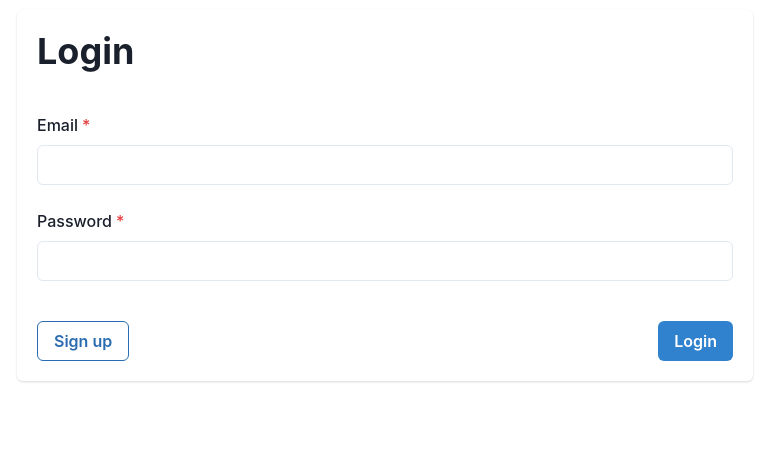
Test: Login › should show incorrect email error
Type "foo" into the field with test id "email" at (385,165), box x1=37 y1=145 x2=733 y2=185
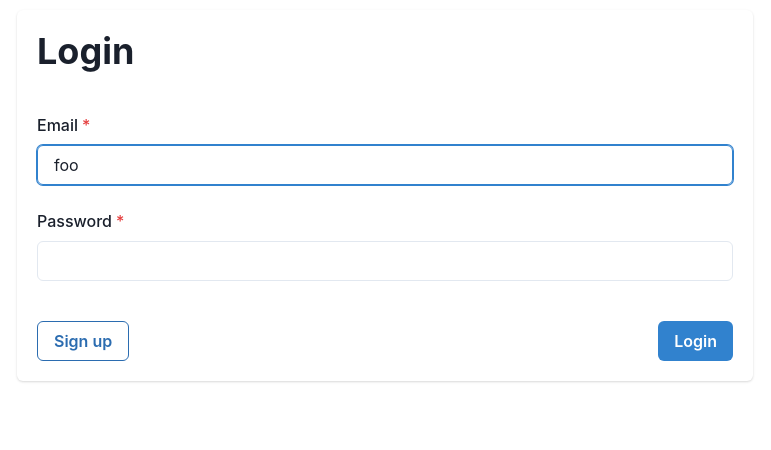
Click the button "Login" at (696,341), box x1=658 y1=321 x2=733 y2=361
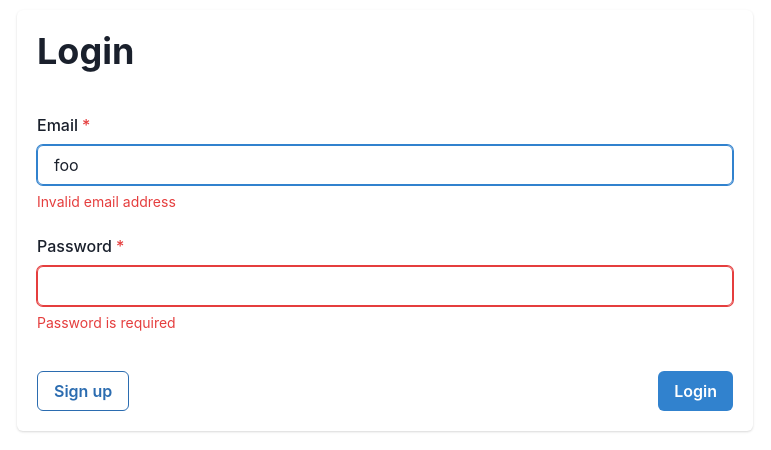
Check: the text "Invalid email address" is shown, box x1=37 y1=193 x2=176 y2=210
